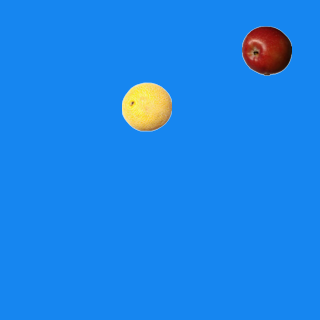Apple Braeburn: (241, 25, 291, 75)
Cantaloupe 1: (121, 81, 171, 131)
